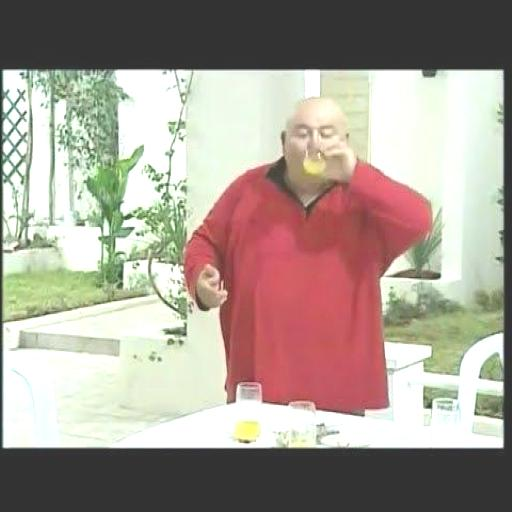sboui: (282, 97, 346, 190)
